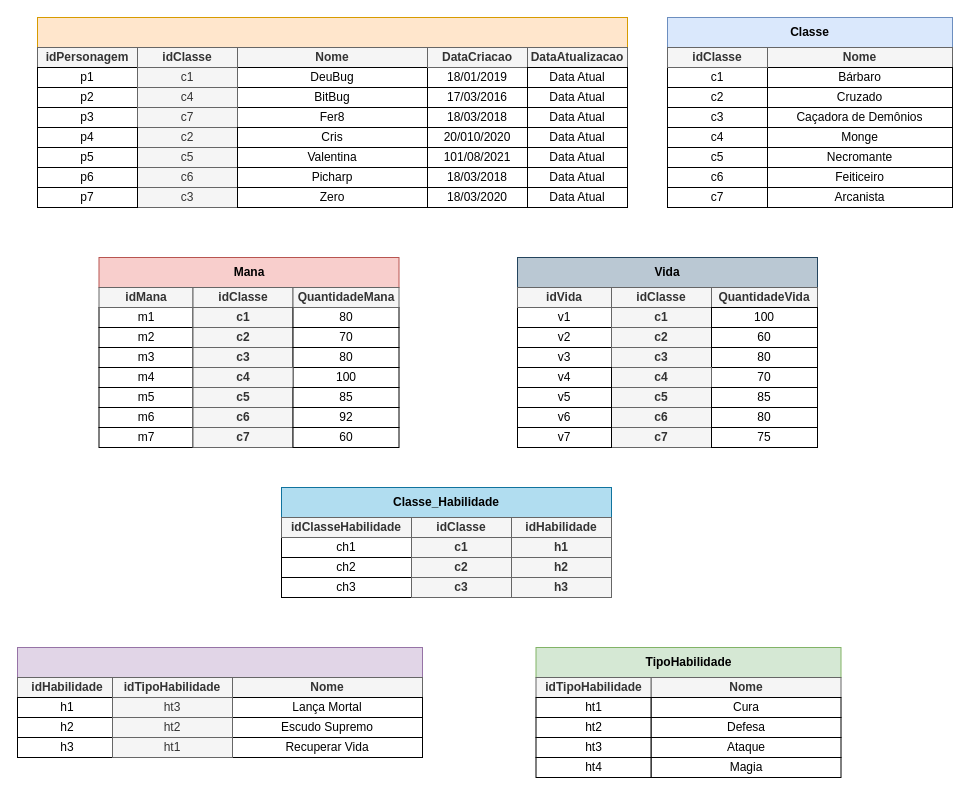
This 970x795 diagram has some shape labels left out. Each missing label, with the centre of its shape:
"Habilidade" belongs at (219,662).
"Personagem" belongs at (332,32).
